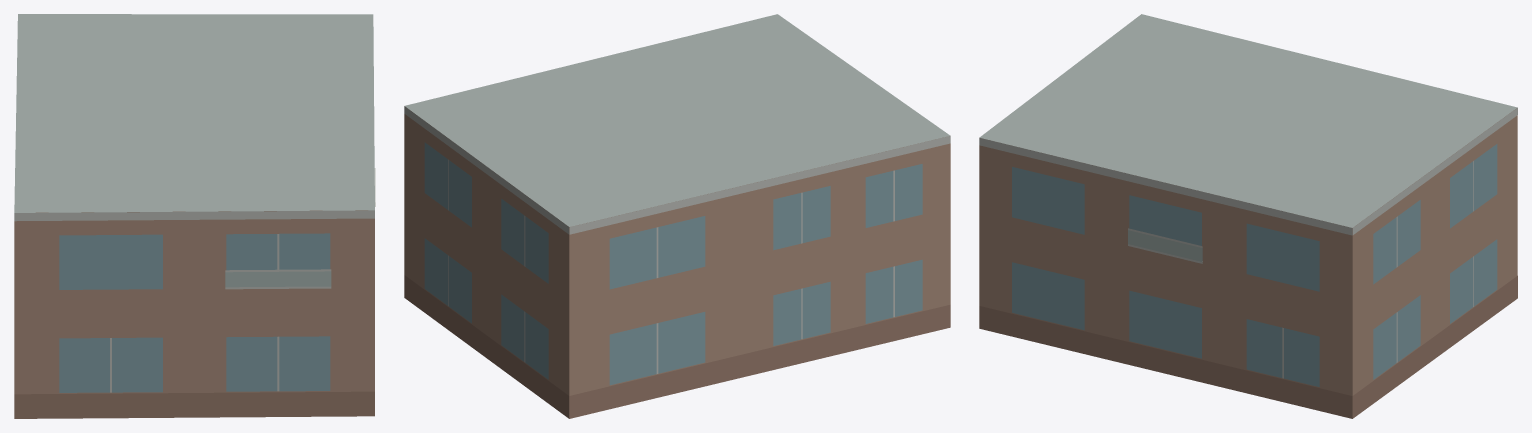
Rendered from survey-upis-32778604.glb.
3 renders of one model, left to right at view 1: azimuth 30°, elevation 25°; view 2: azimuth 150°, elevation 25°; view 3: azimuth 270°, elevation 25°, orthographic. The views are drawn at different scales.
Parts seen in each view (by area): view 1: survey-upis-32778604.tmp; view 2: survey-upis-32778604.tmp; view 3: survey-upis-32778604.tmp.
Part boxes in pixels (x1,y1,x2,y2): survey-upis-32778604.tmp: (14,14,375,418); survey-upis-32778604.tmp: (404,14,950,418); survey-upis-32778604.tmp: (979,14,1517,418).
Bounding box in the file's own units: 14.67 × 6.1 × 15.6.
